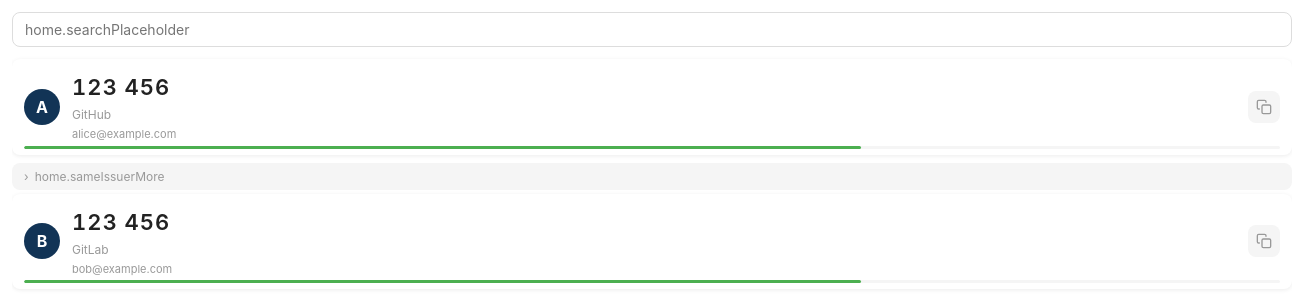
AccountCodeList search › should filter by account name
Type "bob" into the search field with class "search-input" at (652, 30), box [12,12,1292,47]
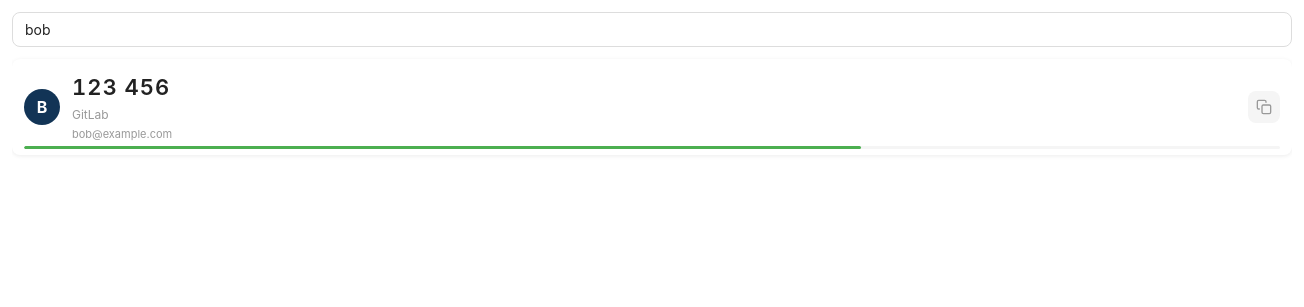
Expected: the text "bob@example.com" is shown, [72,127,172,141]
Expected: the number of "AccountCard" components is 1, [12,59,1292,154]
